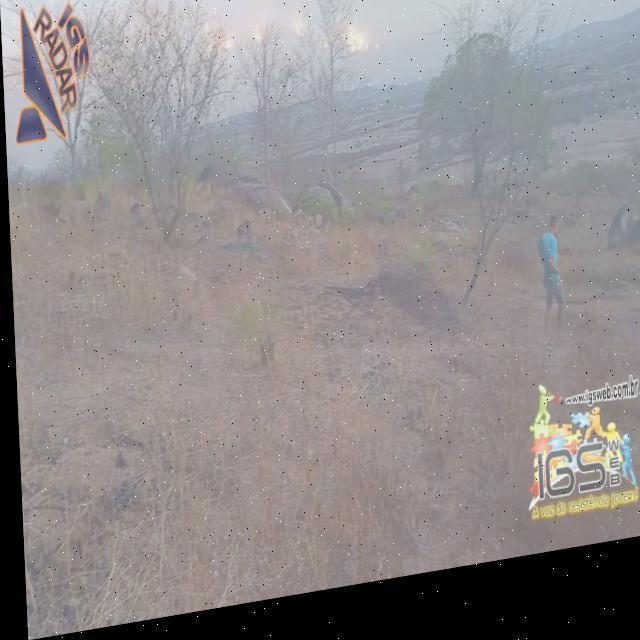Fire: (344, 37, 369, 66), (252, 26, 268, 50), (292, 23, 304, 47), (220, 42, 233, 59)
